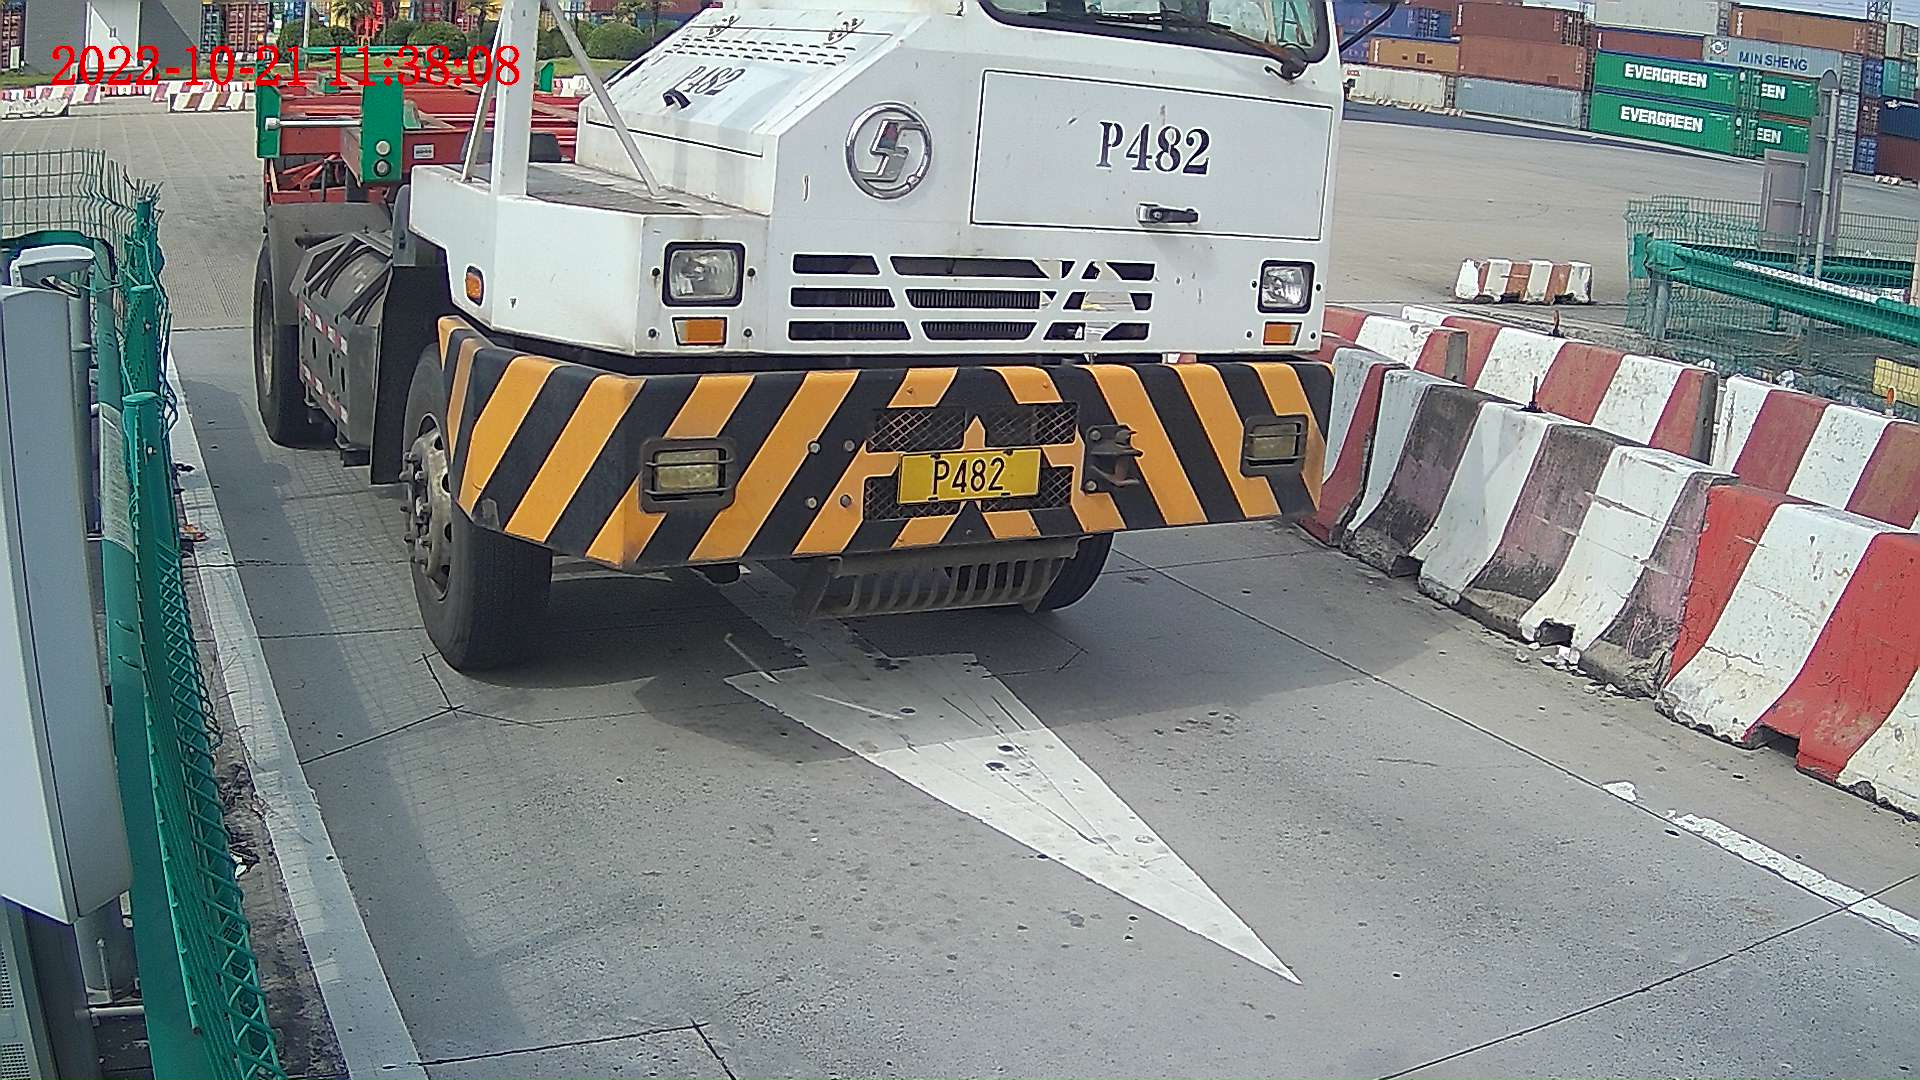head: (426, 2, 1337, 681)
plate: (896, 455, 1045, 501)
